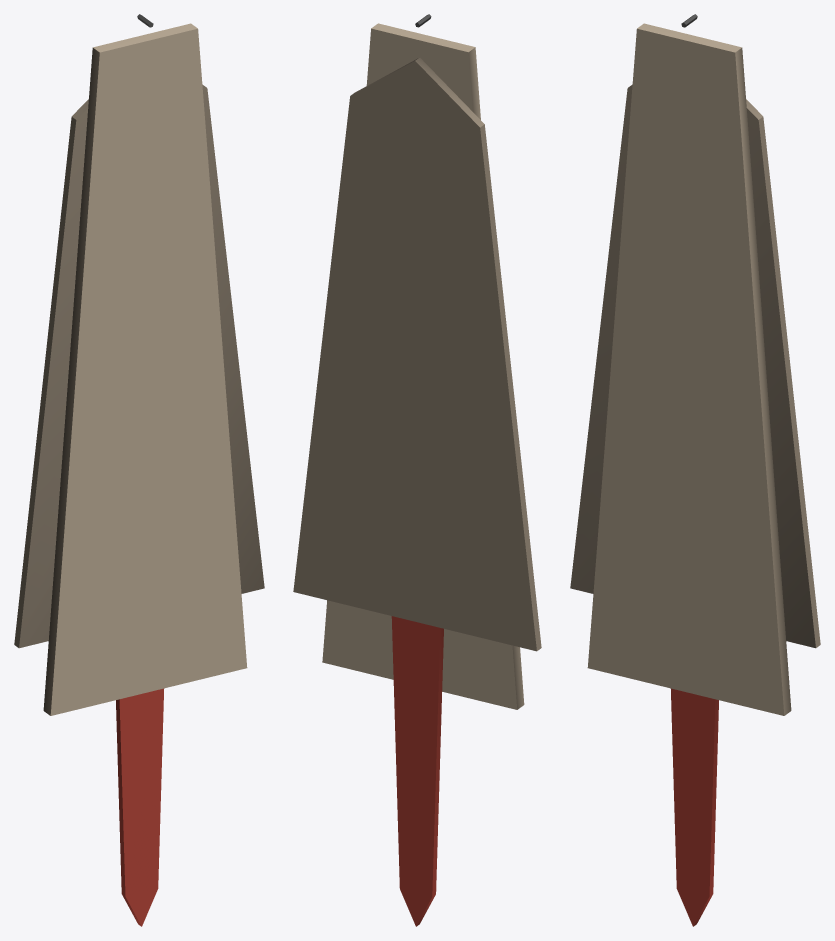
File: hide_frame.glb
3 renders of one model, left to right at view 1: azimuth 30°, elevation 25°; view 2: azimuth 150°, elevation 25°; view 3: azimuth 330°, elevation 25°, orthographic.
Visible parts, largest first — view 1: static; view 2: static; view 3: static.
Boxes of the visible parts, bbox=[...] form: static: bbox=[14, 14, 264, 926]; static: bbox=[293, 14, 541, 926]; static: bbox=[570, 14, 820, 926].
Bounding box in the file's own units: 0.3 × 1.06 × 0.03.
